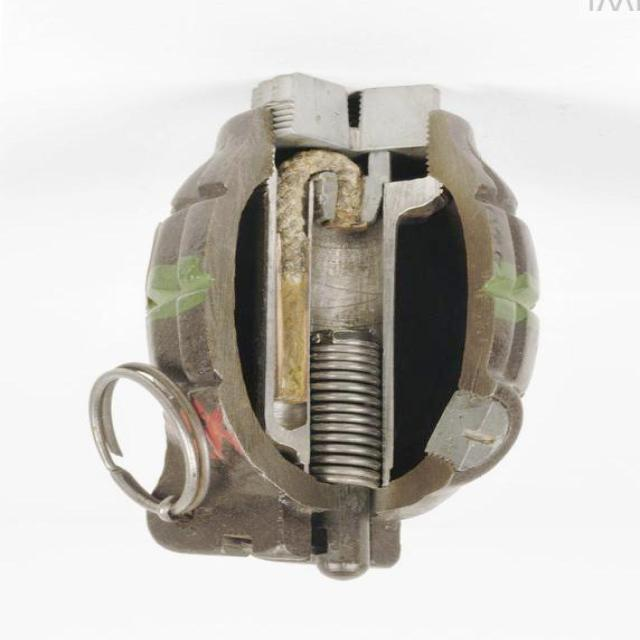grenade: (89, 74, 542, 581)
